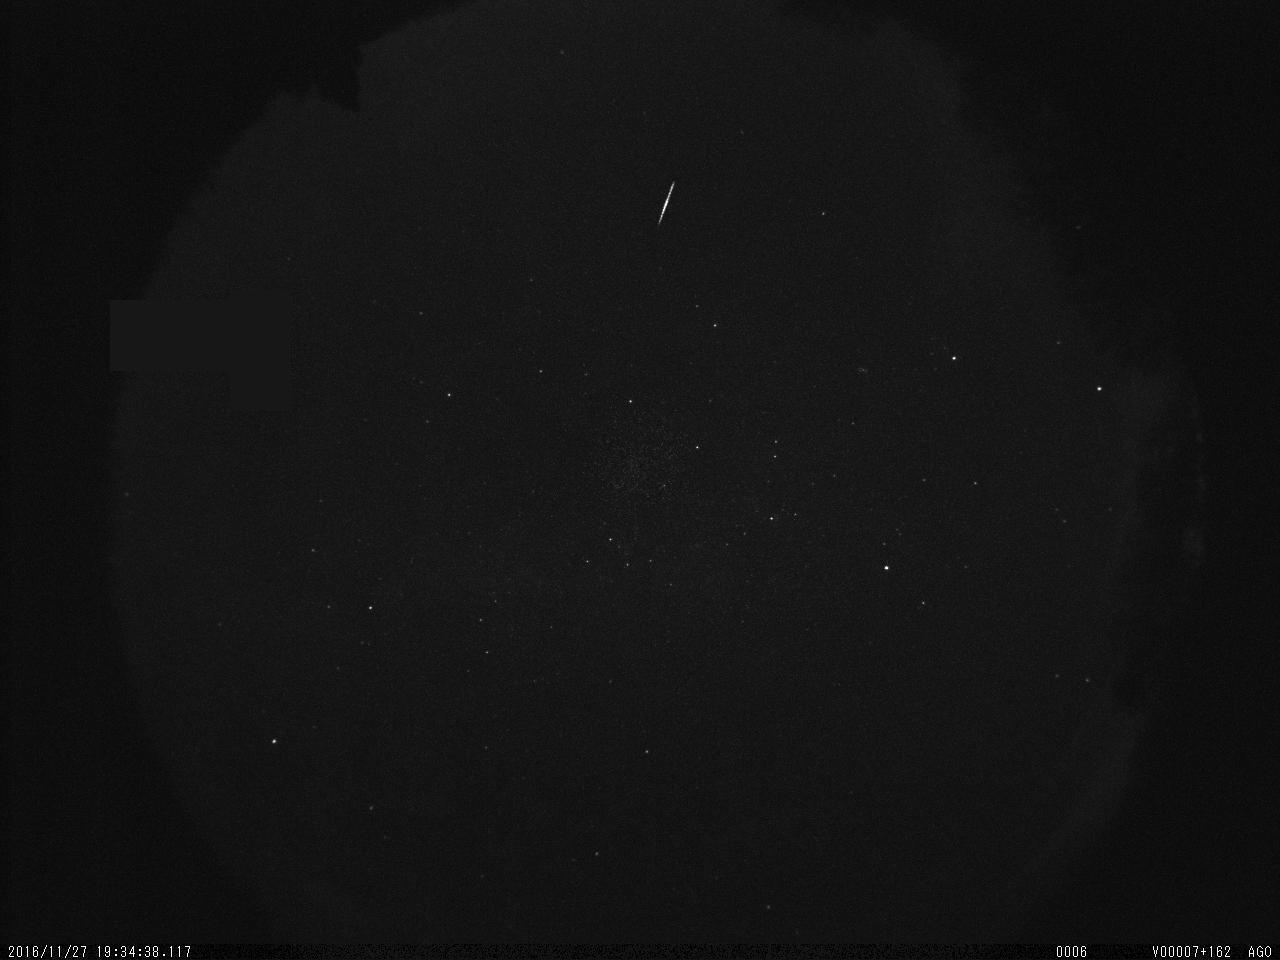meteor: (653, 175, 681, 234)
